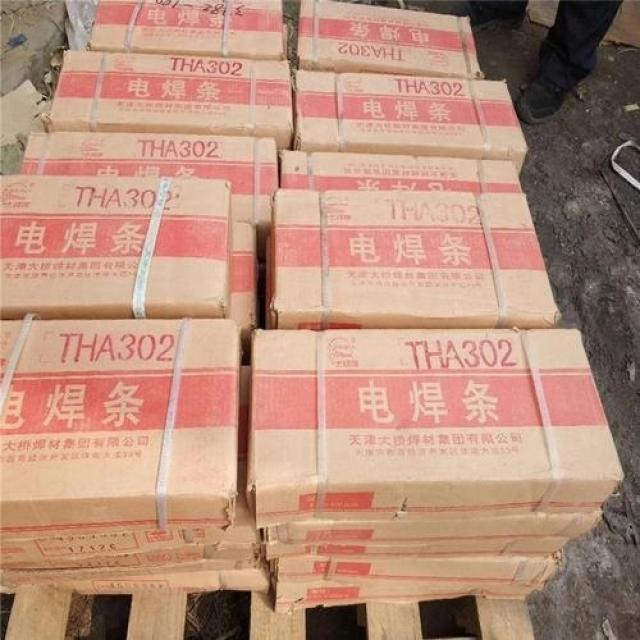box: (247, 328, 624, 529), (0, 319, 243, 540), (0, 367, 261, 569), (270, 189, 562, 332), (0, 174, 234, 319), (20, 132, 279, 257), (294, 70, 528, 177), (42, 51, 294, 149), (297, 0, 484, 80), (86, 0, 284, 60), (263, 510, 603, 544), (279, 149, 523, 193), (270, 551, 562, 586), (0, 560, 271, 595), (275, 581, 544, 613), (0, 529, 221, 564), (266, 538, 571, 560), (231, 222, 257, 356)
